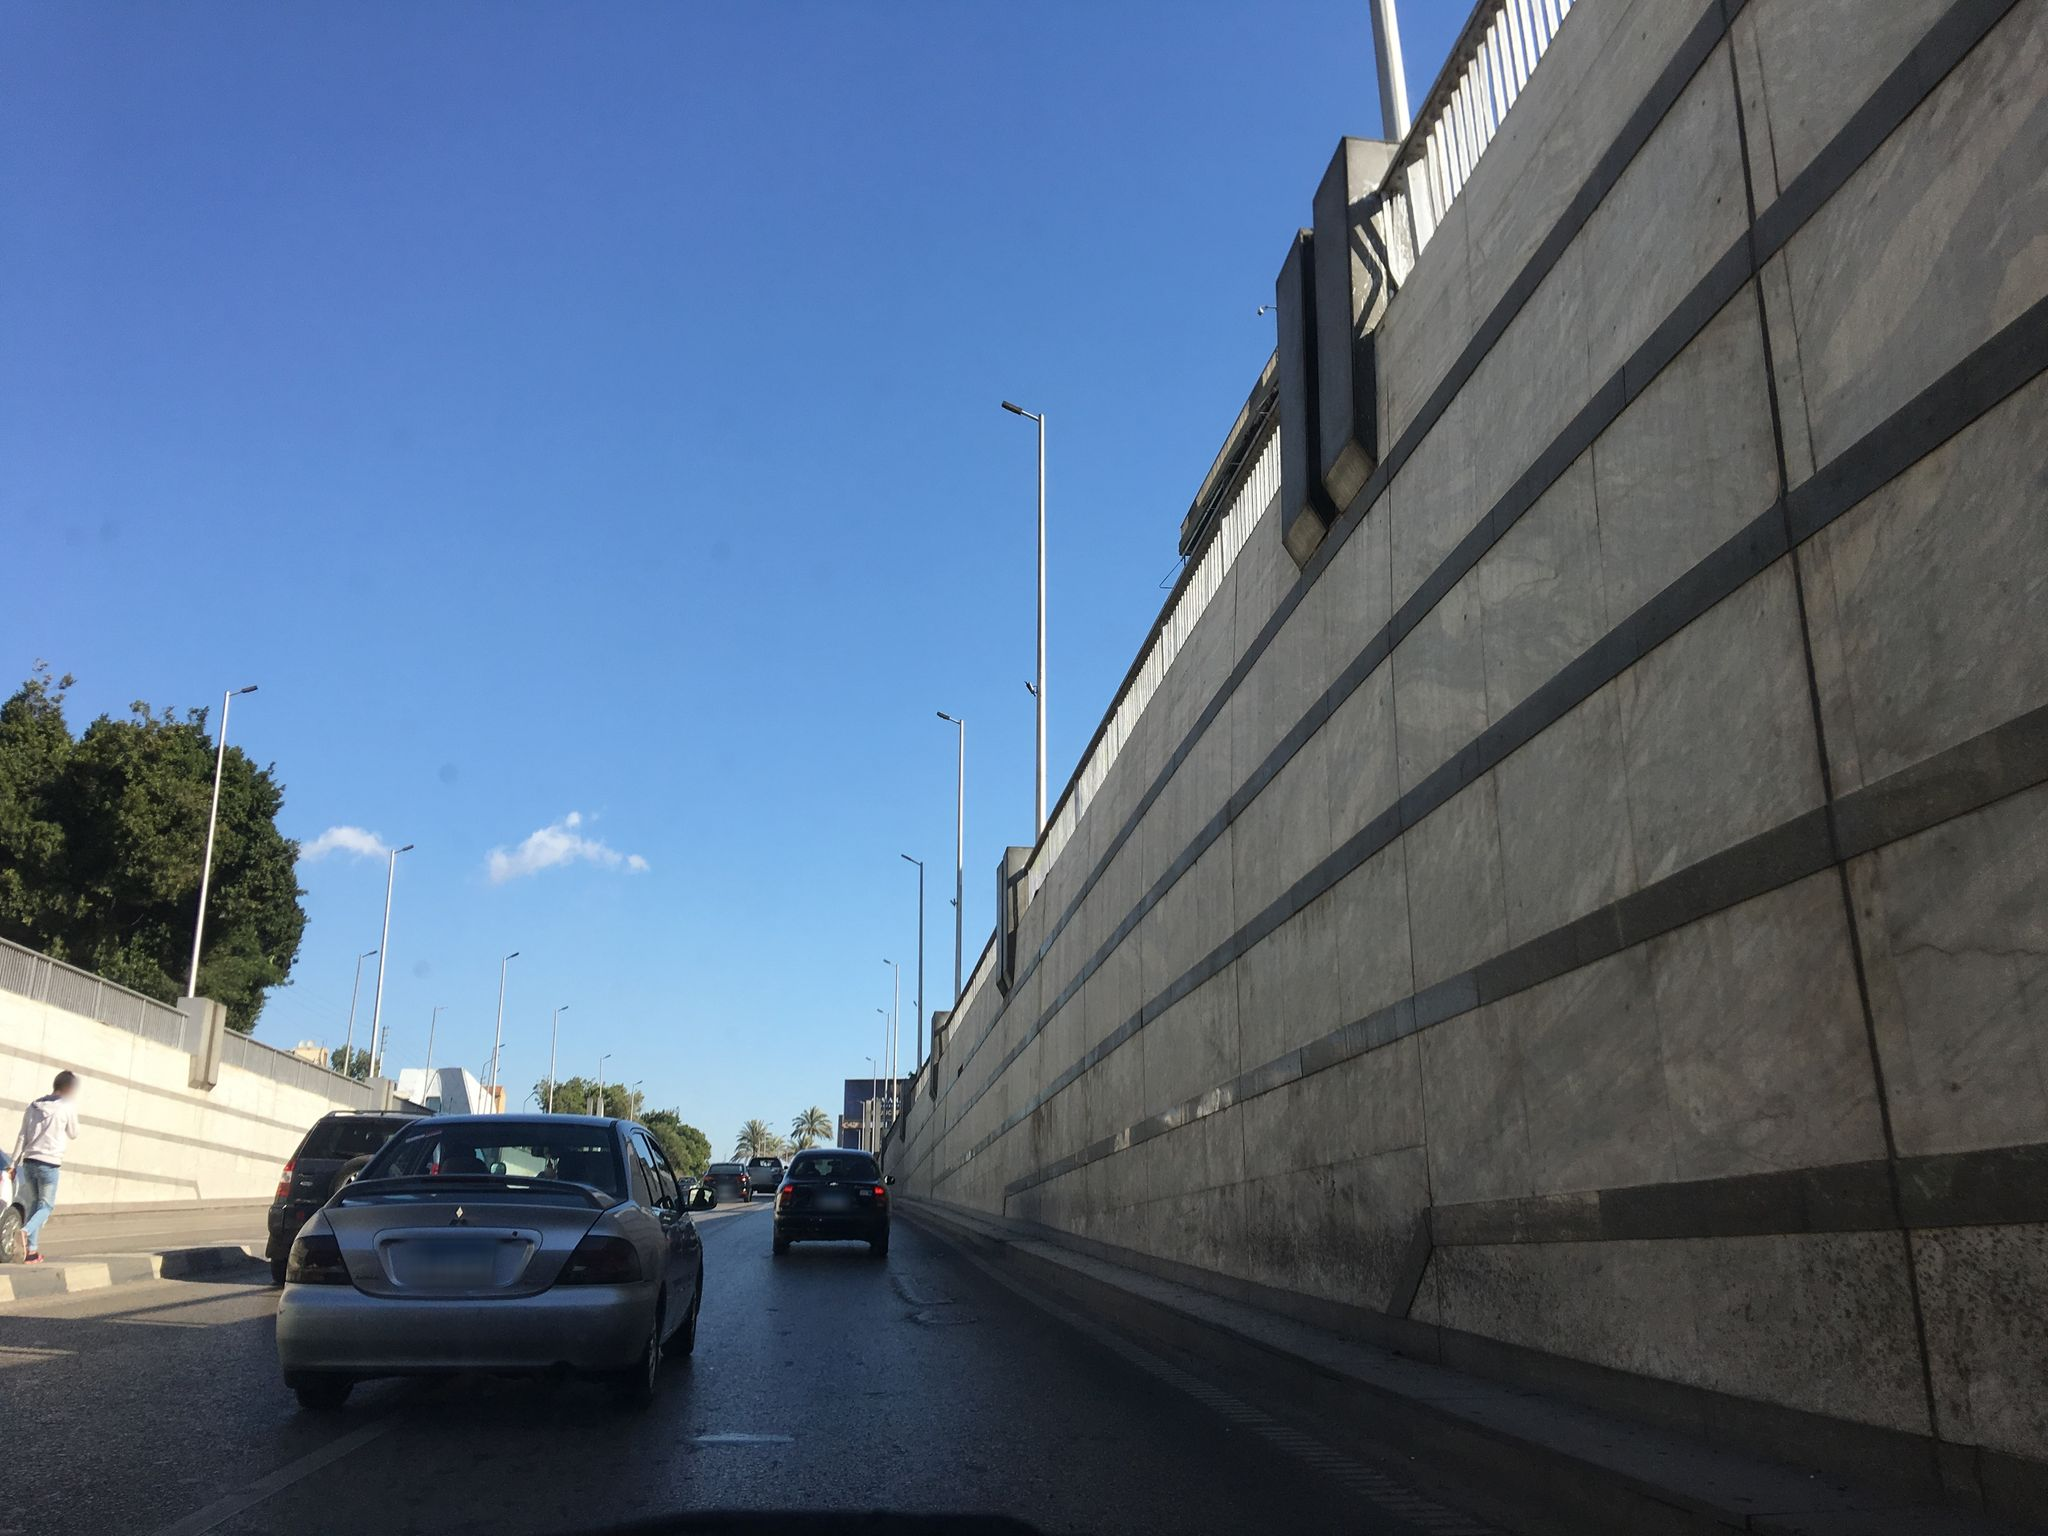car: (263, 1110, 714, 1404), (264, 1105, 453, 1291), (771, 1149, 897, 1254), (701, 1162, 751, 1204), (747, 1154, 784, 1194), (677, 1175, 698, 1196)
